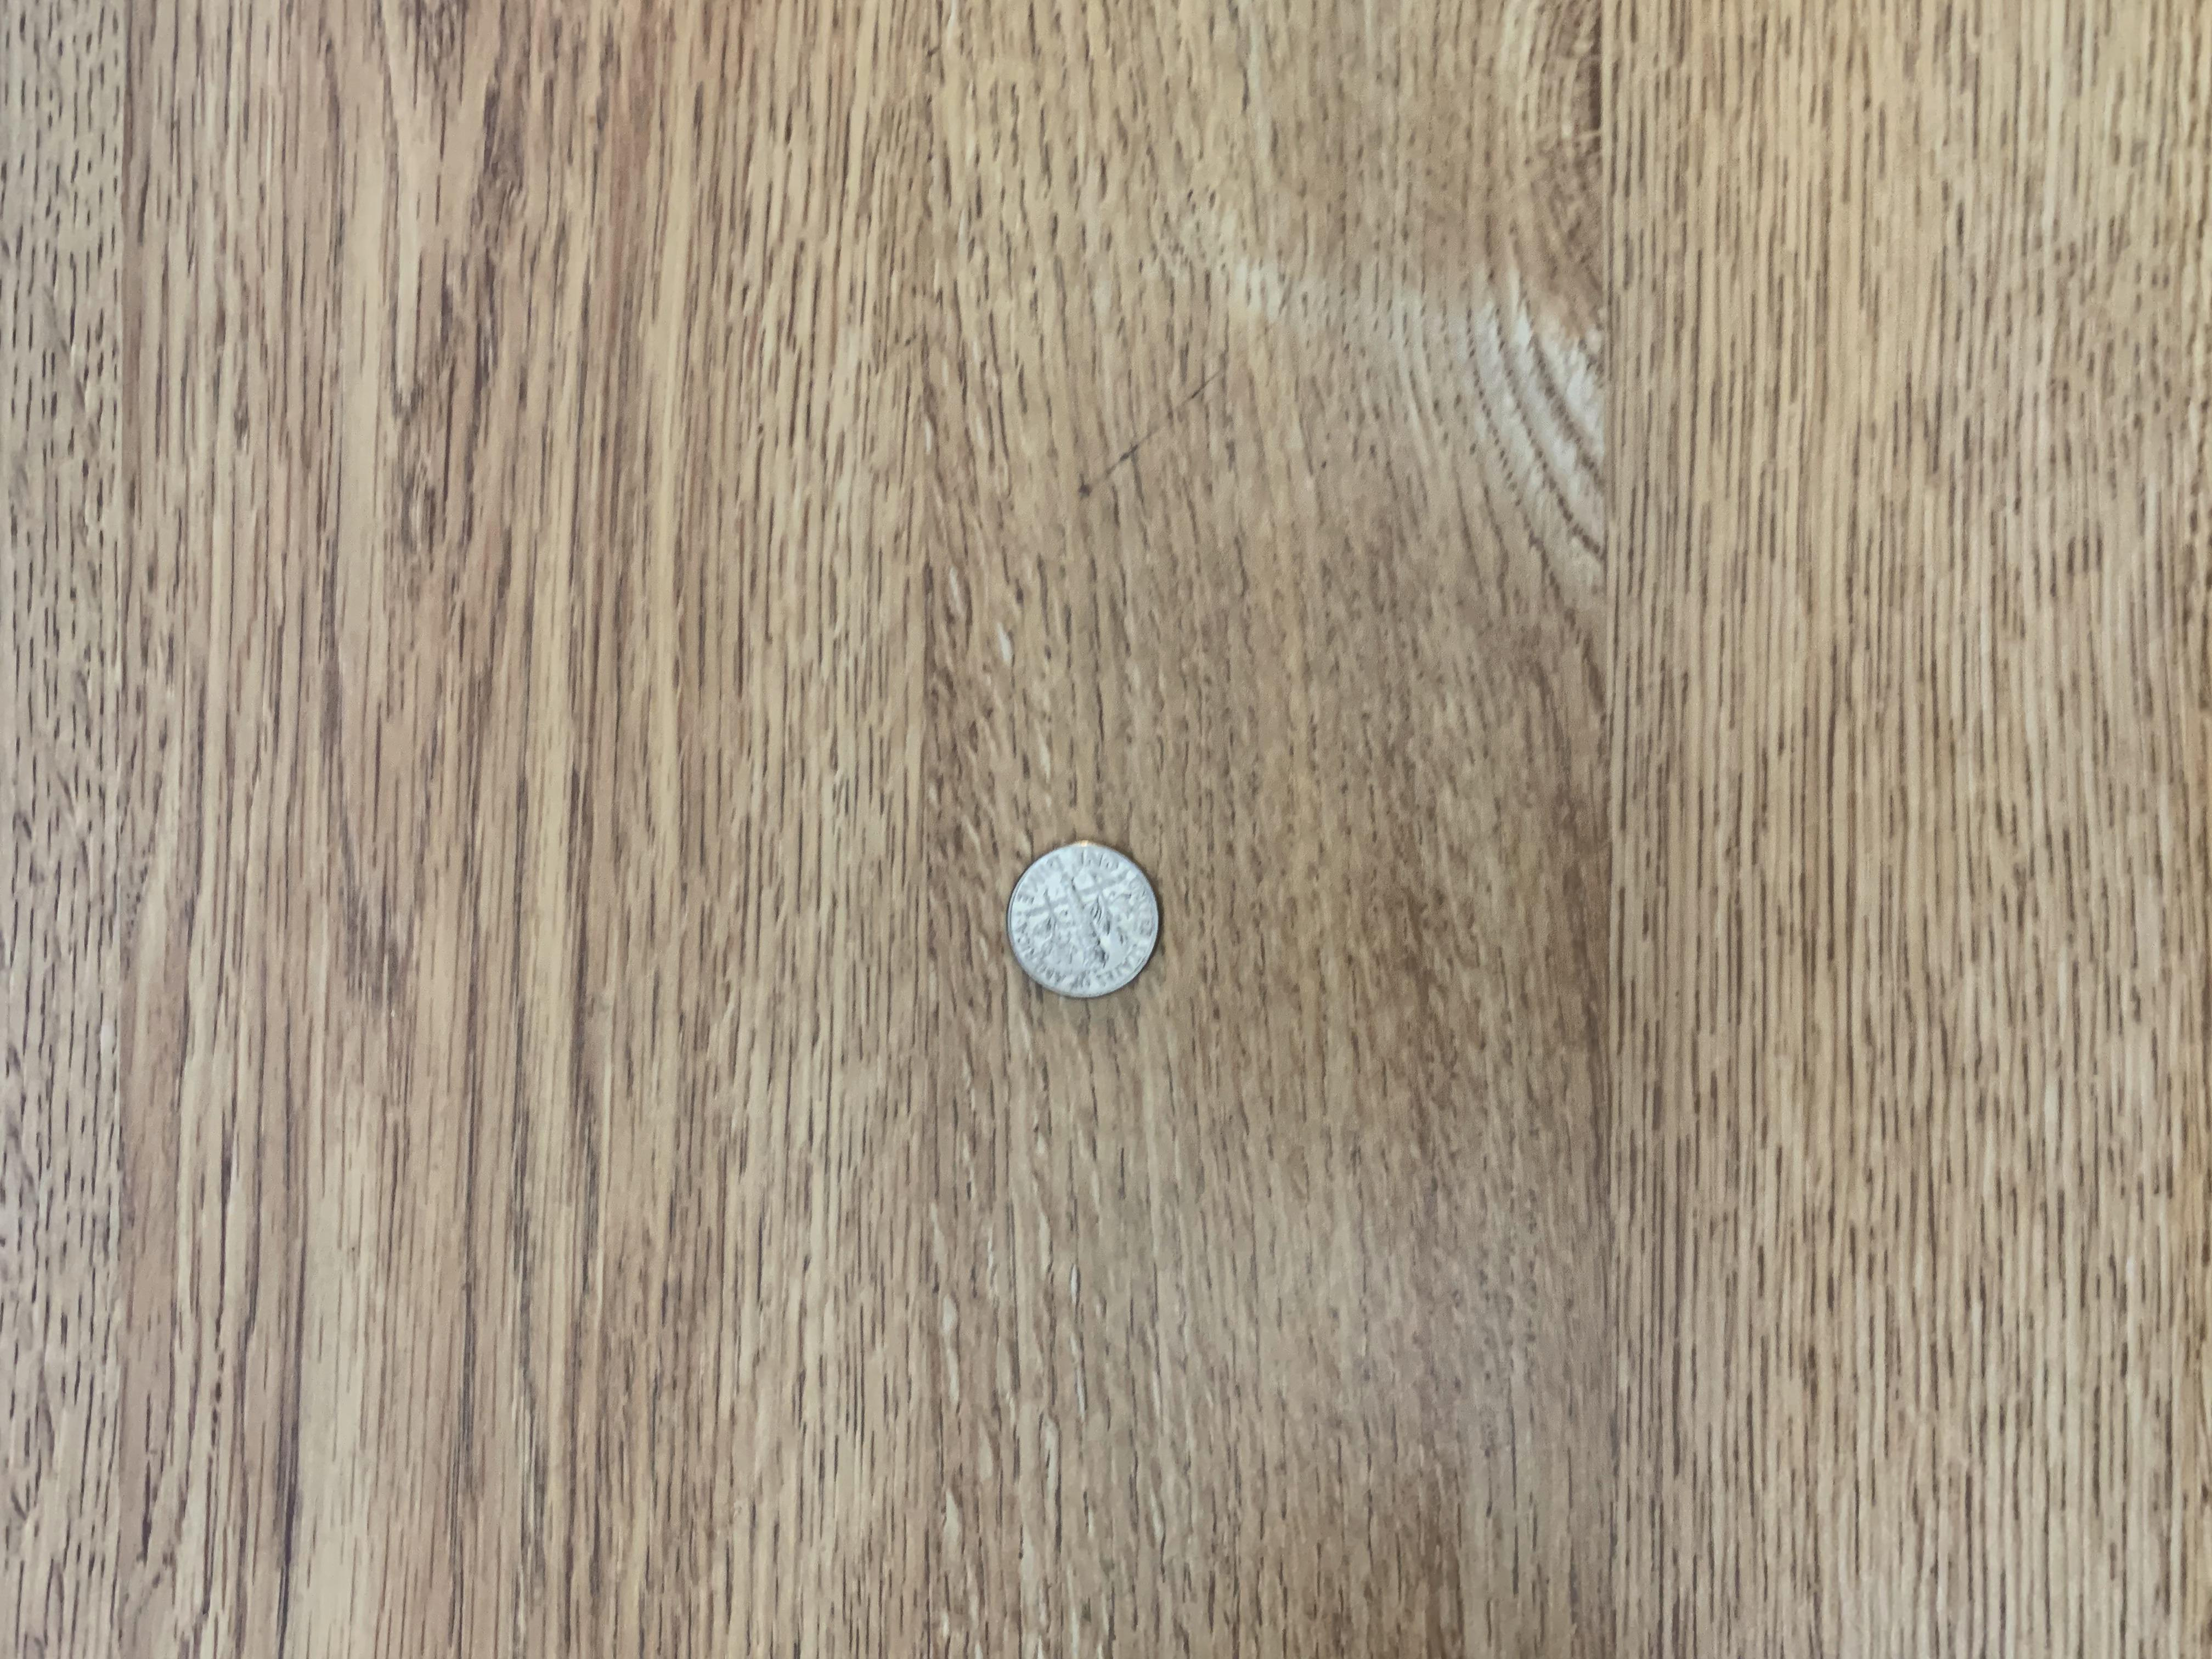Dime: (995, 836, 1169, 1007)
